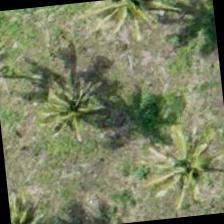Kelapa_Sawit: (27, 56, 126, 155), (128, 120, 223, 220), (85, 0, 180, 50), (6, 172, 60, 223)
